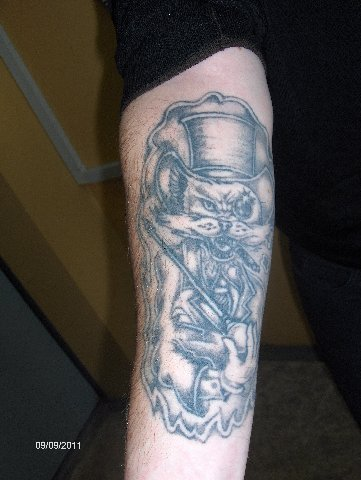tatu8_kot: (133, 87, 277, 442)
